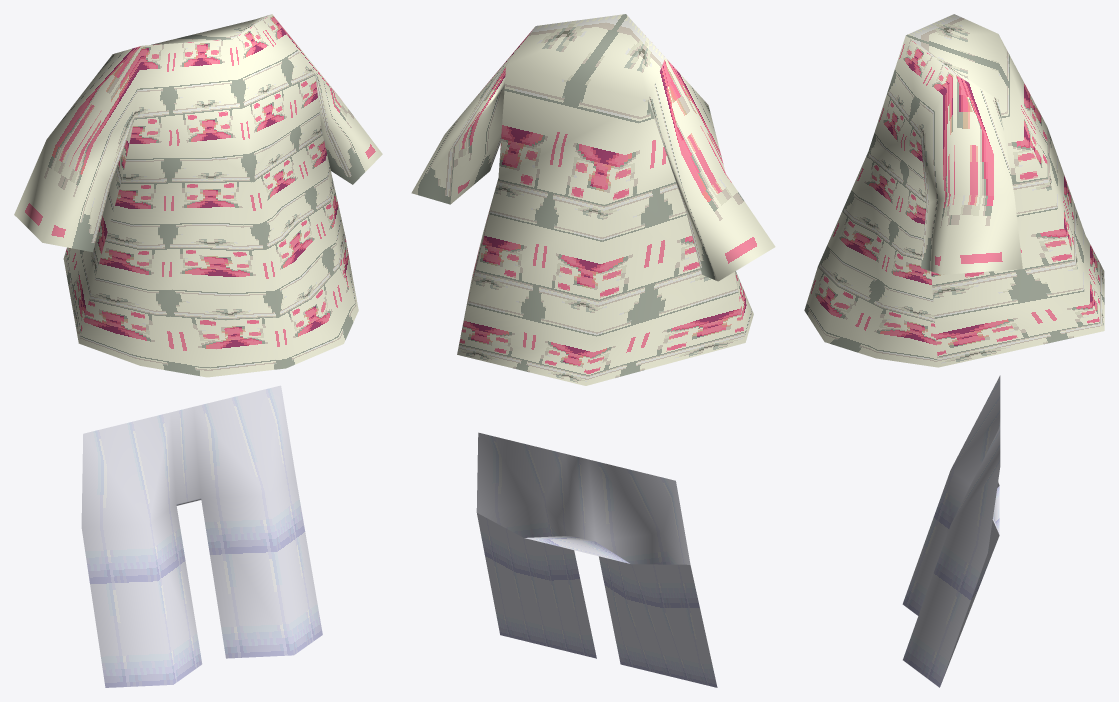
The model's file is 1745cl_set_bot.gltf.
The picture shows the model from 3 angles, left to right: view 1: azimuth 30°, elevation 25°; view 2: azimuth 150°, elevation 25°; view 3: azimuth 270°, elevation 25°; orthographic projection. The views are drawn at different scales.
Parts seen in each view (by area): view 1: 1745cl_set_bot; view 2: 1745cl_set_bot; view 3: 1745cl_set_bot.
Boxes of the visible parts, x1=… form: 1745cl_set_bot: x1=14, y1=14, x2=382, y2=687; 1745cl_set_bot: x1=411, y1=14, x2=775, y2=687; 1745cl_set_bot: x1=804, y1=14, x2=1104, y2=687.
Size of the model in its own units: 1.09 by 1.96 by 0.8848.
2 materials, 2 textured.
